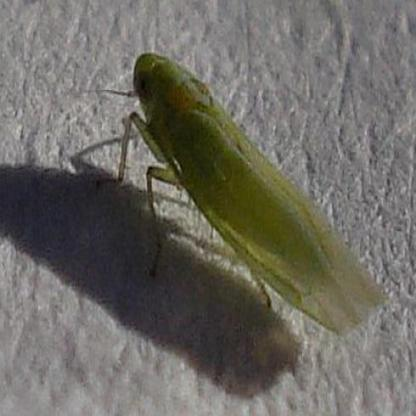green-leafhopper: (119, 50, 387, 336)
